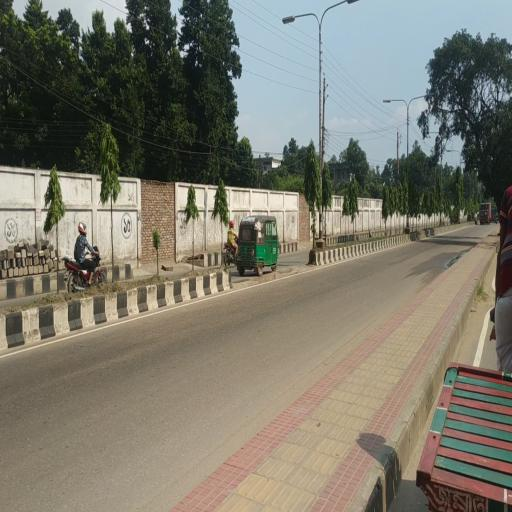motorbike: (65, 247, 107, 289), (225, 237, 239, 268)
pickup: (480, 203, 492, 224)
three wheelers (CNG): (238, 216, 280, 276)
wheelbarrow: (416, 361, 512, 512)
